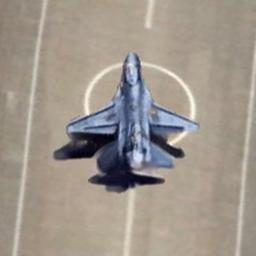Airplane: (52, 50, 200, 193)
